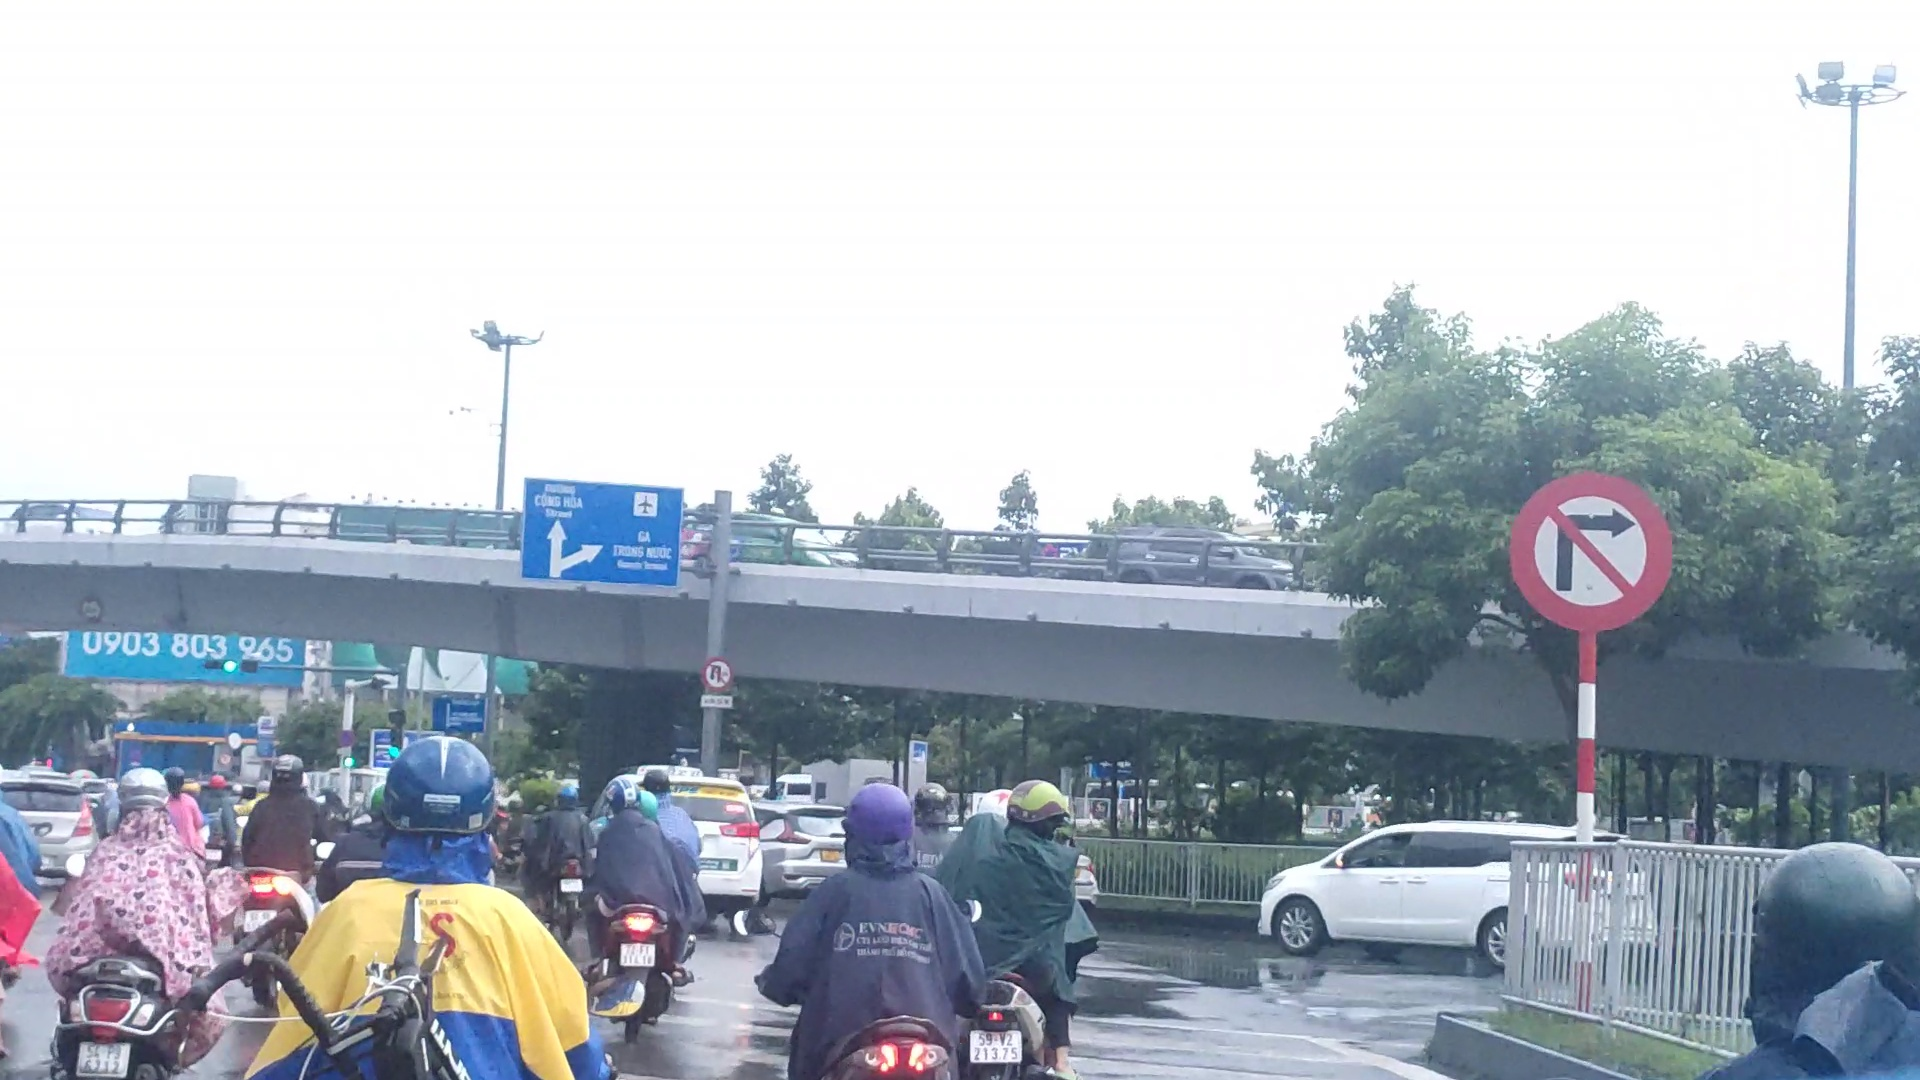P.123b: (1509, 468, 1672, 637)
P.124b1: (702, 657, 735, 692)
